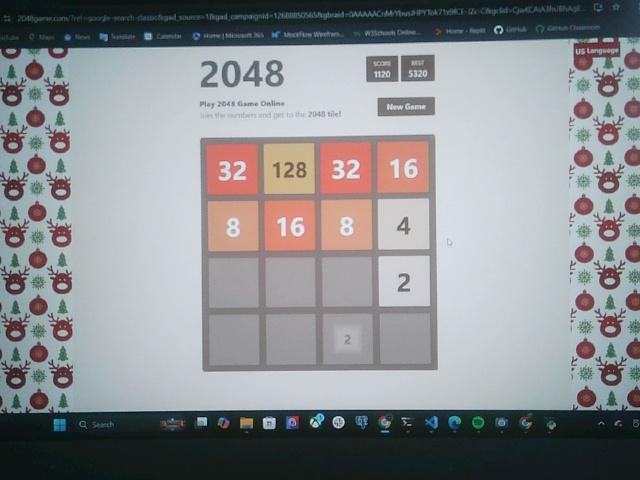board: (201, 137, 437, 371)
tile: (376, 140, 429, 193), (379, 256, 431, 308), (378, 199, 429, 251), (265, 200, 316, 251), (322, 200, 373, 251), (321, 143, 373, 193), (264, 144, 315, 194), (208, 201, 259, 251), (207, 145, 258, 194)
